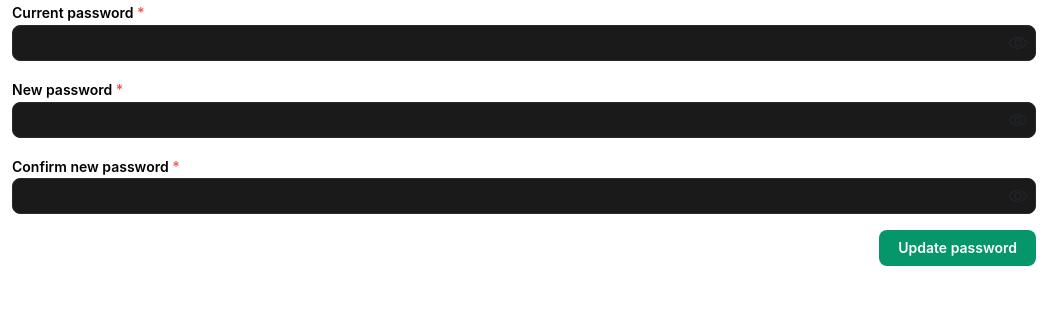
Test: ChangePasswordForm › re-authenticates with the current password, then updates to the new password
The image size is (1048, 320).
Type "current-pw" into the password field labelled "Current password *" at (524, 43), box [13,26,1035,60]
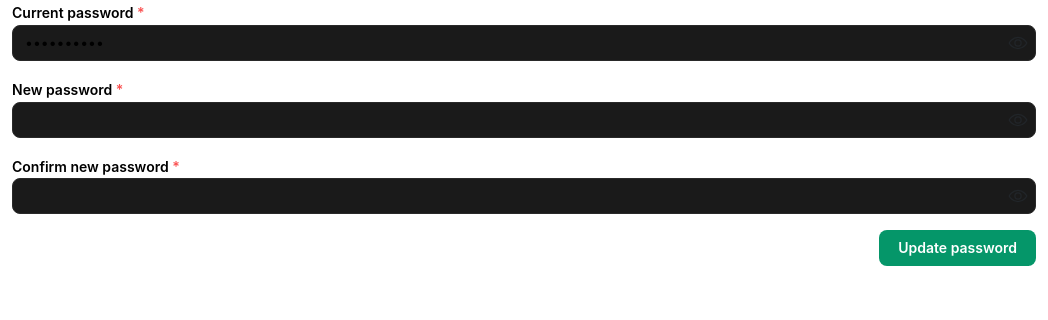
Type "new-password-1" into the password field labelled "New password *" at (524, 120), box [13,103,1035,137]
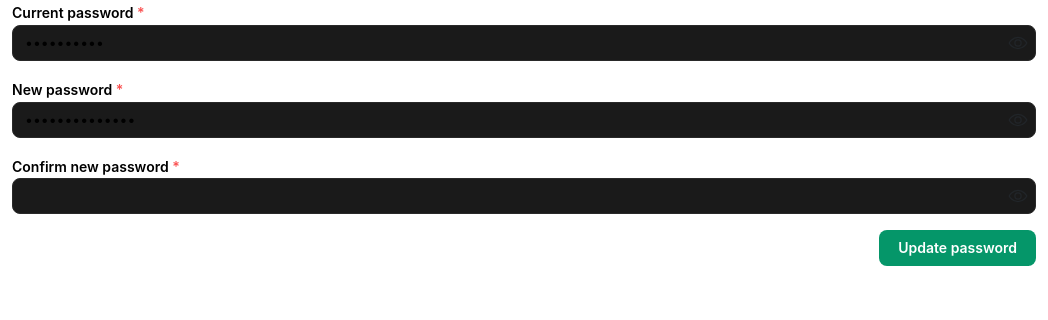
Type "new-password-1" into the password field labelled "Confirm new password *" at (524, 196), box [13,179,1035,213]
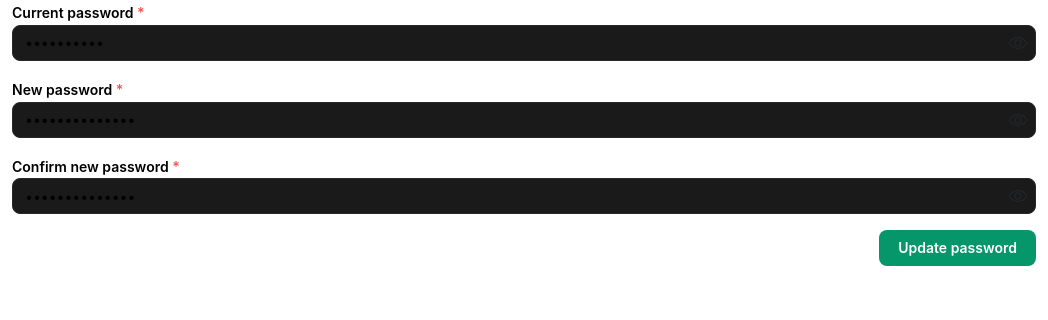
Click the button "Update password" at (958, 248), box [879,230,1036,266]
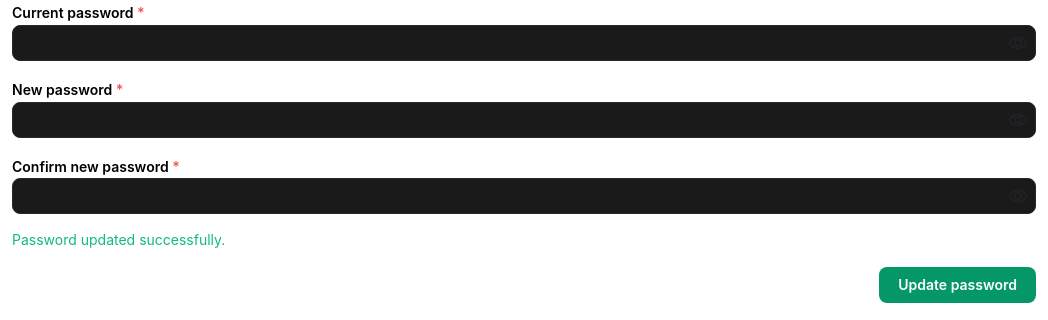
Result: the text "Password updated successfully." is shown at [12,231,225,248]
Result: the password field labelled "Current password *" is empty at [13,26,1035,60]
Result: the password field labelled "New password *" is empty at [13,103,1035,137]
